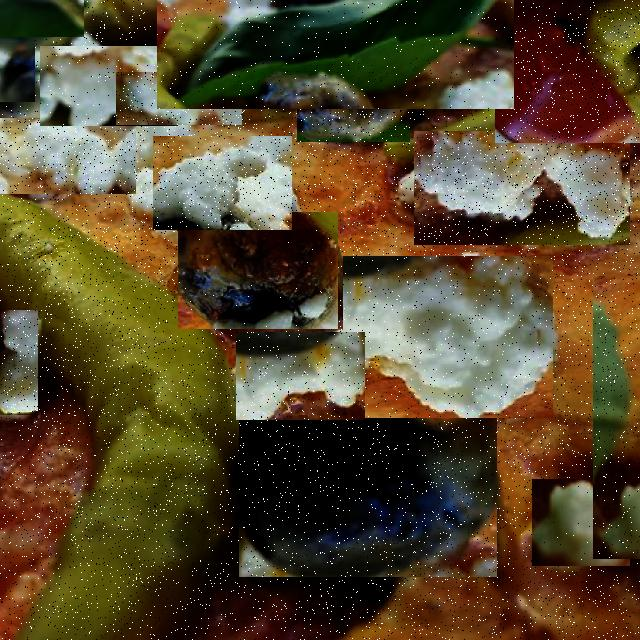Basil: (158, 0, 516, 109), (593, 276, 640, 559), (0, 0, 84, 37)
Cheese: (343, 256, 553, 418), (414, 131, 630, 245), (153, 136, 292, 230), (236, 332, 365, 420), (40, 46, 178, 126), (0, 118, 136, 194), (532, 479, 630, 566), (116, 72, 242, 125), (0, 310, 38, 415)
Olives: (239, 400, 497, 577), (178, 212, 338, 329), (297, 72, 410, 142), (268, 0, 396, 21), (0, 31, 35, 102)
Pizza: (0, 0, 640, 640)
Tomato: (495, 0, 640, 143)
